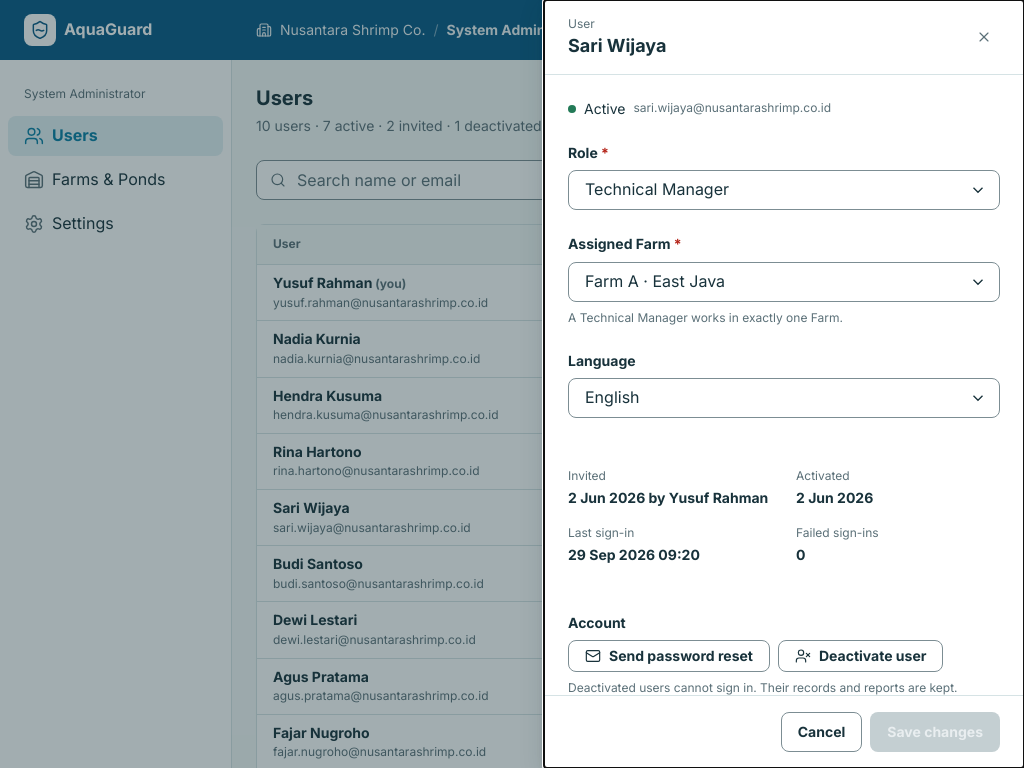
Scenario: AD-01 Users › warns that Farm A loses its only Technical Manager, then deactivates
Expected: the text "2 Jun 2026 by Yusuf Rahman" is shown, x1=568 y1=488 x2=772 y2=507
Expected: the dropdown labelled "Assigned Farm" shows "Farm A · East Java", x1=568 y1=262 x2=1000 y2=302
Click the button "Deactivate user".
click(861, 656)  # box x1=778 y1=640 x2=943 y2=672
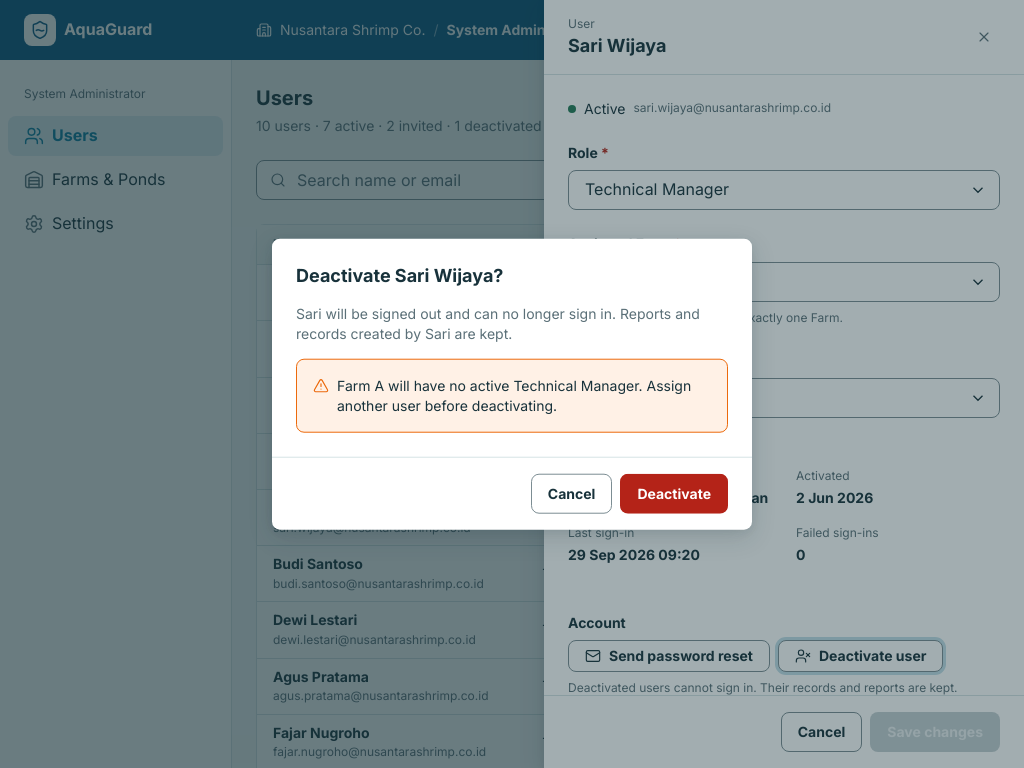
Expected: the text "Farm A will have no active Technical Manager. Assign another user before deactivating." is shown, x1=337 y1=377 x2=691 y2=414
Click the button "Deactivate".
click(674, 493)  # box x1=620 y1=473 x2=728 y2=513
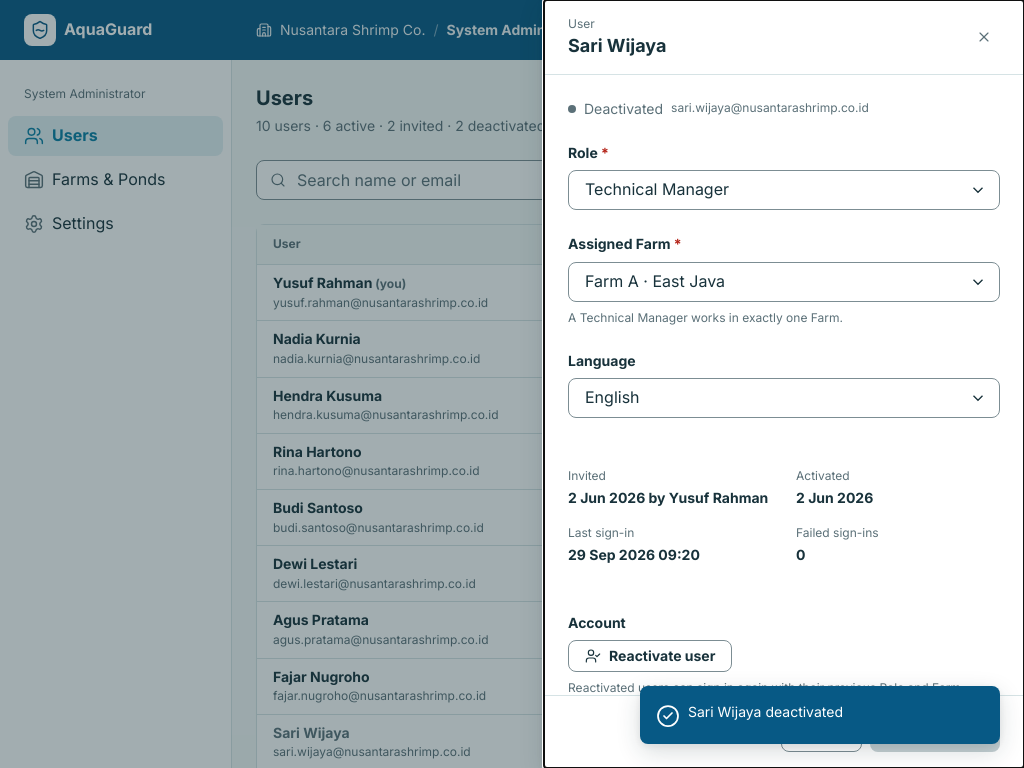
Expected: the text "Sari Wijaya deactivated" is shown, x1=688 y1=702 x2=843 y2=722
Expected: the text "10 users · 6 active · 2 invited · 2 deactivated" is shown, x1=256 y1=116 x2=545 y2=136
Expected: the button "Reactivate user" is shown, x1=568 y1=640 x2=732 y2=672
